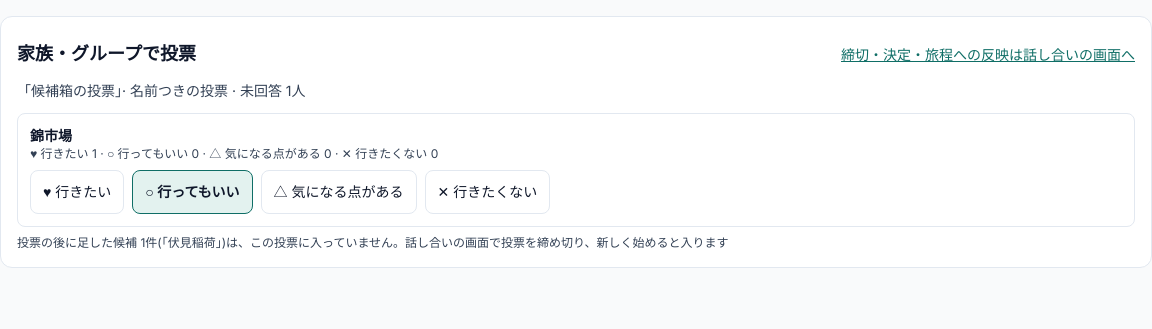
Scenario: 候補箱の投票 › 自分の回答をもう一度押すと取り消す。失敗は画面に出す
Click the radio button labelled "○ 行ってもいい" at (192, 192), box [132,170,253,214]
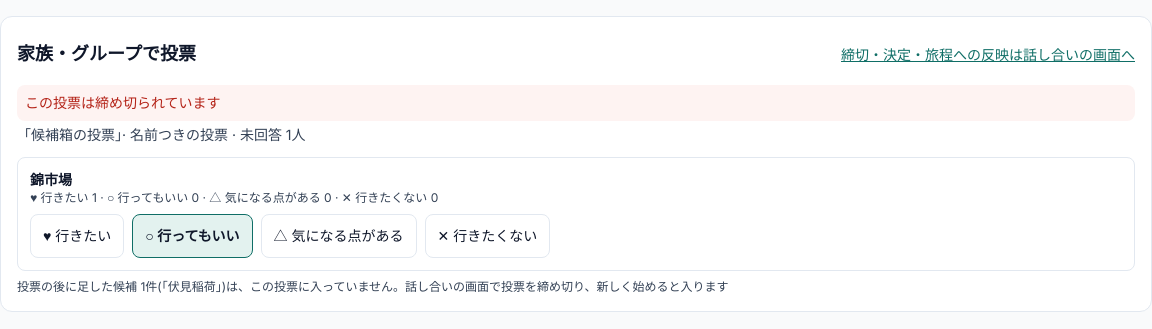
Expected: the message shows "締め切られています", [25,94,221,111]
